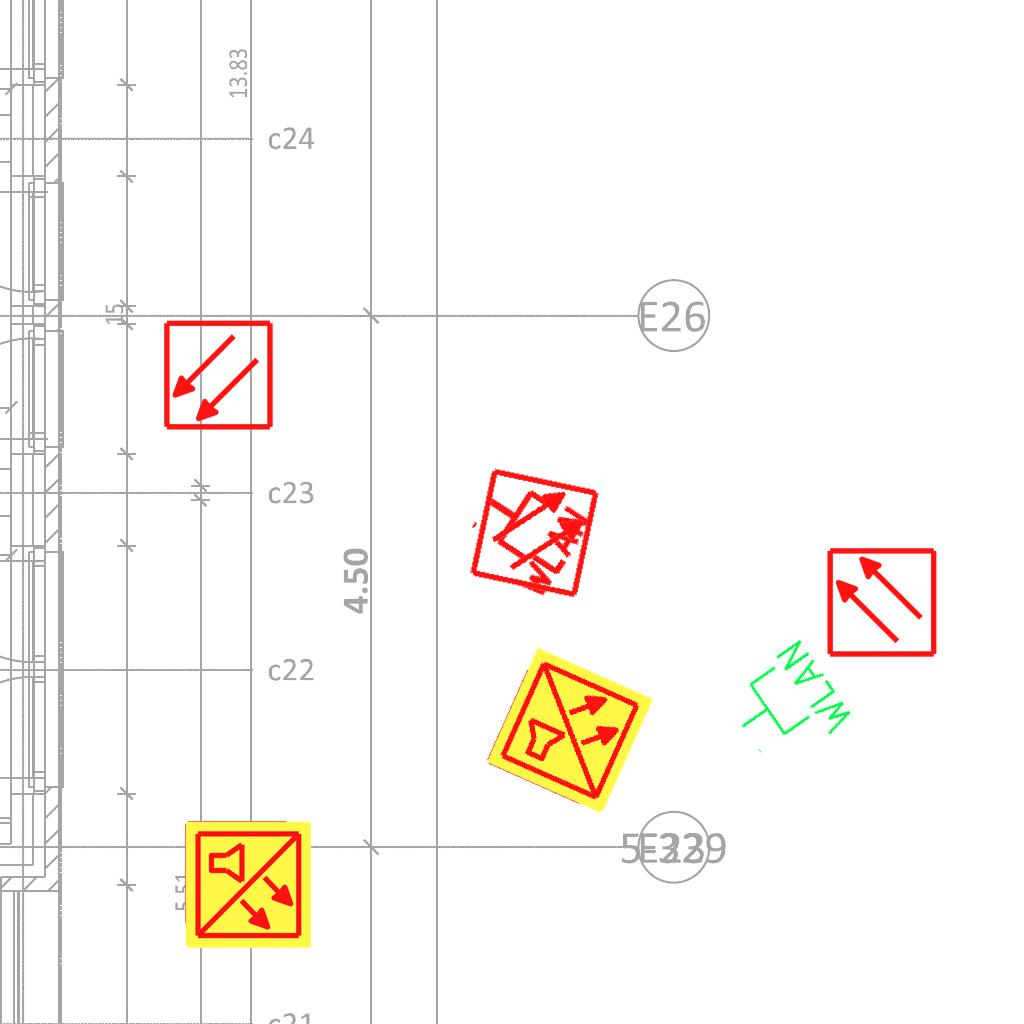OKW_Multisensormelder_(Kombination_optischer_Rauch-Kahlenmonoxid_Waerme-Melder): (482, 643, 658, 819), (182, 819, 314, 951)
RMO_Rauchmelder_optischer: (467, 465, 602, 600), (825, 546, 938, 659), (162, 319, 275, 432)
WLAN: (715, 633, 861, 780), (452, 461, 597, 607)
